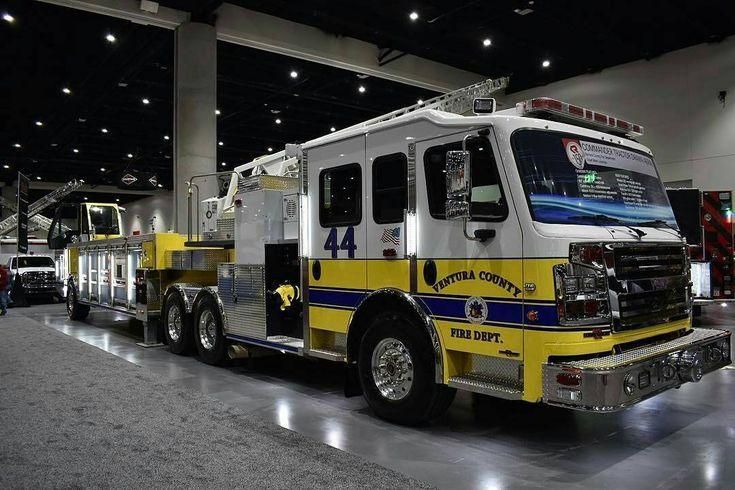Fire-engine: (49, 75, 733, 426)
